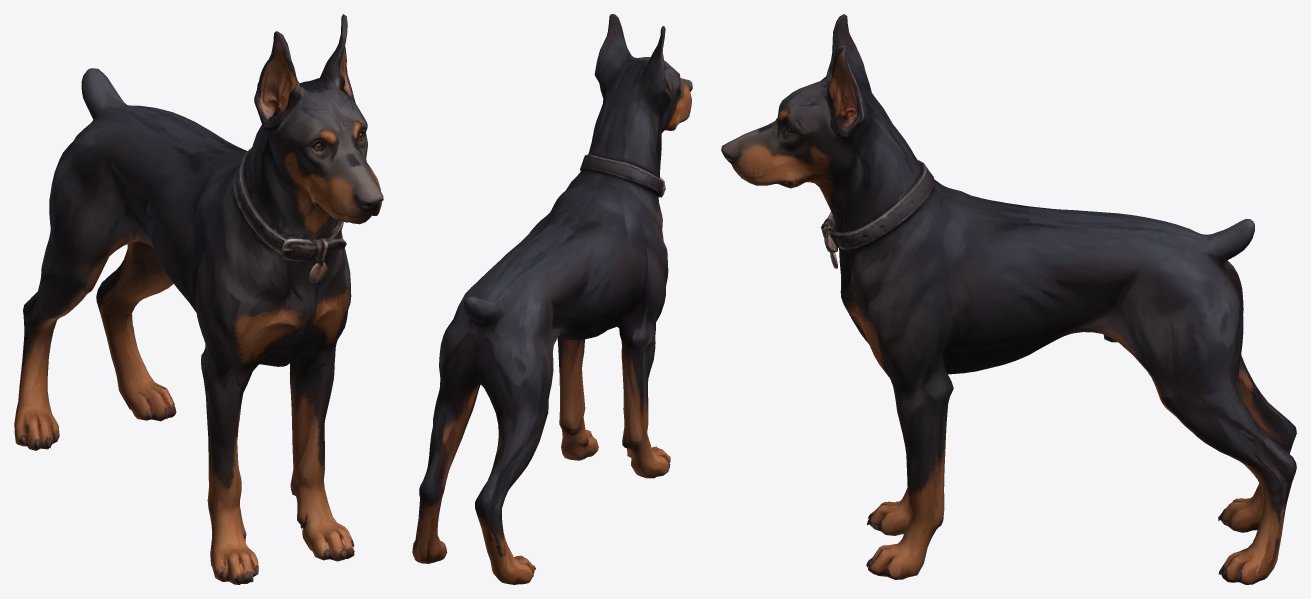
Rendered from cao-2.glb.
3 views of the same model, side by side, from view 1: azimuth 30°, elevation 25°; view 2: azimuth 150°, elevation 25°; view 3: azimuth 270°, elevation 25° (orthographic). The views are drawn at different scales.
Parts seen in each view (by area): view 1: cao; view 2: cao; view 3: cao.
Part boxes in pixels (box(x1,y1,x2,y2)): cao: box(14, 14, 383, 584); cao: box(412, 14, 692, 584); cao: box(721, 14, 1296, 584).
Bounding box in the file's own units: 0.5475 × 1.9 × 1.9.
1 material, 1 textured.
